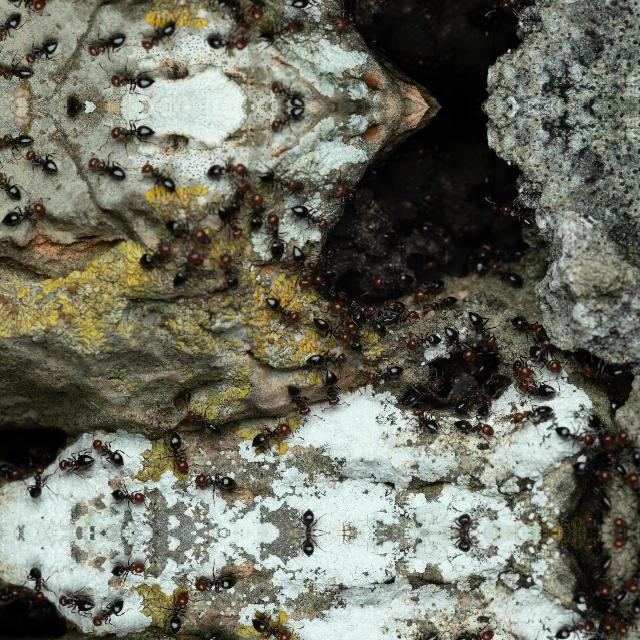Crematogaster: (458, 304, 498, 344), (0, 194, 42, 232), (166, 245, 202, 288), (182, 401, 222, 439), (503, 400, 557, 428), (104, 118, 154, 148), (104, 64, 154, 94), (278, 380, 314, 420), (525, 338, 567, 372), (76, 153, 124, 181), (76, 31, 124, 59), (583, 358, 627, 388), (250, 421, 292, 452), (140, 158, 176, 194), (403, 402, 439, 438), (210, 207, 246, 243), (140, 18, 176, 54), (188, 570, 234, 598), (188, 468, 234, 494), (361, 361, 405, 387), (266, 293, 304, 323), (404, 323, 442, 353), (370, 265, 410, 293), (442, 325, 473, 361), (250, 613, 291, 640), (516, 372, 562, 396), (166, 217, 208, 243), (491, 202, 533, 228), (104, 556, 146, 582), (24, 144, 60, 174), (24, 38, 60, 68), (454, 418, 498, 442), (268, 77, 304, 106), (92, 437, 126, 467), (92, 598, 126, 628), (218, 245, 240, 291), (50, 590, 96, 612), (0, 165, 28, 201), (104, 484, 146, 508), (291, 201, 327, 229), (268, 106, 304, 134), (510, 308, 546, 336), (570, 458, 612, 482), (590, 478, 618, 514), (0, 11, 28, 47), (292, 500, 322, 532), (202, 160, 250, 180), (292, 533, 322, 565), (202, 32, 250, 52), (590, 552, 618, 586), (570, 584, 612, 606), (50, 454, 96, 474), (265, 213, 285, 259), (490, 258, 520, 288), (320, 368, 342, 408), (286, 241, 306, 285), (418, 293, 462, 313), (166, 435, 187, 475), (140, 234, 168, 264), (166, 590, 187, 630), (28, 560, 50, 598), (304, 346, 350, 364), (312, 320, 343, 346), (28, 468, 50, 504), (260, 168, 296, 190), (416, 222, 452, 244), (454, 622, 498, 640), (260, 22, 296, 44), (416, 274, 448, 298), (621, 424, 639, 466), (0, 0, 42, 18), (455, 383, 481, 412), (621, 599, 639, 640), (379, 230, 407, 256), (330, 302, 366, 322), (228, 174, 248, 210), (228, 2, 248, 38), (346, 323, 368, 355), (378, 310, 422, 326), (550, 425, 584, 443), (550, 622, 584, 640), (250, 192, 266, 228), (312, 238, 336, 262), (181, 626, 222, 640), (450, 512, 478, 532), (0, 466, 24, 488), (332, 180, 354, 204), (0, 577, 24, 599), (332, 8, 354, 32), (450, 534, 478, 552), (0, 133, 34, 147), (0, 65, 34, 79), (504, 356, 530, 374), (403, 627, 439, 640), (628, 468, 640, 504), (491, 0, 533, 10), (628, 562, 640, 596), (291, 0, 327, 11), (250, 0, 265, 20)
